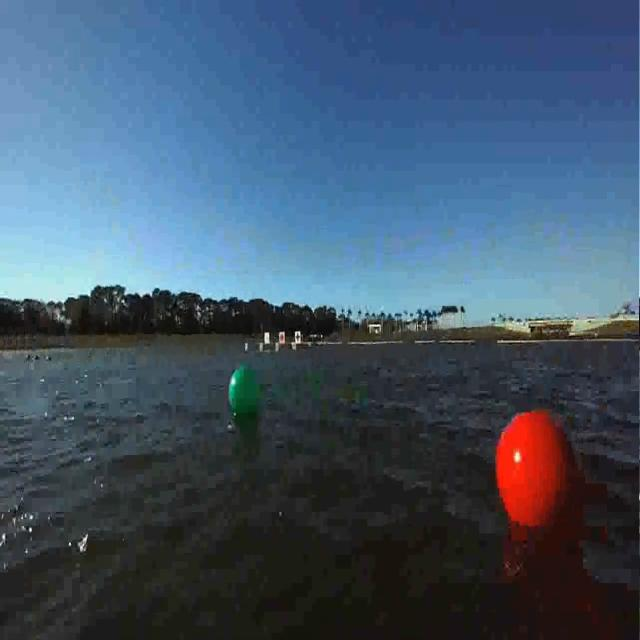green-buoy: (226, 362, 265, 418)
red-buoy: (493, 410, 574, 530)
